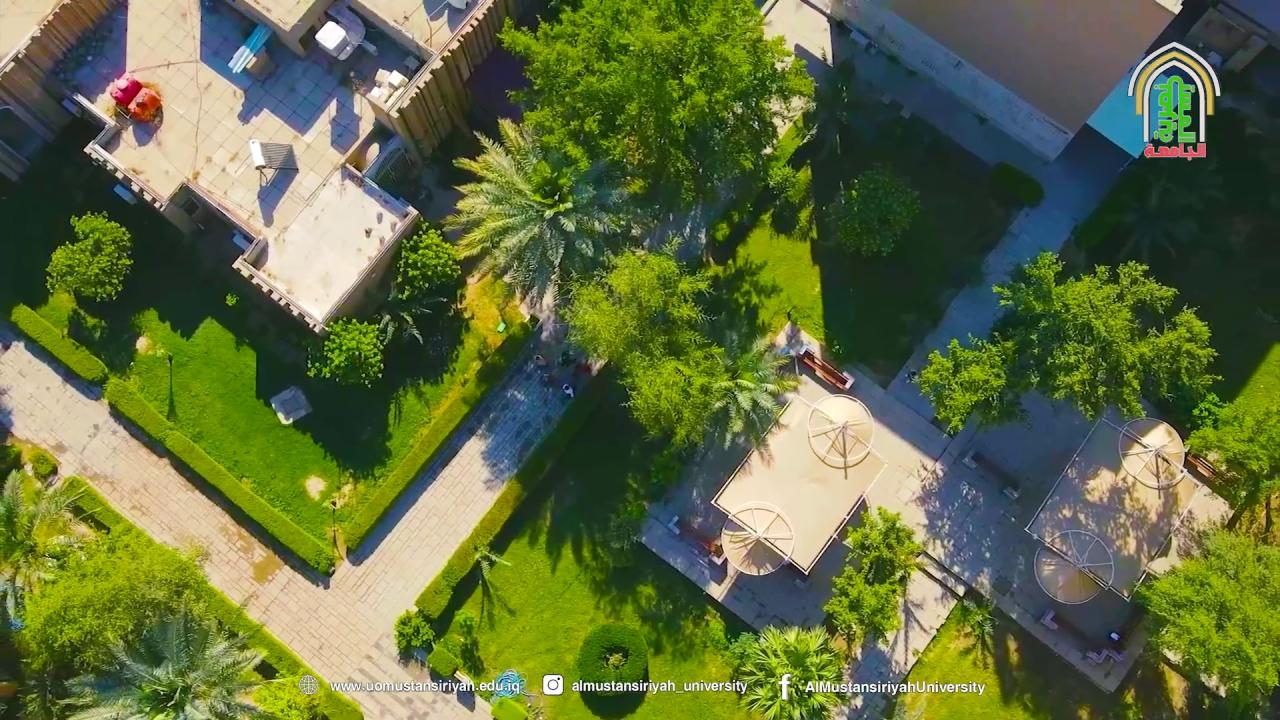tree: (493, 0, 817, 213), (913, 248, 1225, 439), (546, 235, 792, 461), (438, 115, 633, 314), (13, 525, 210, 718), (762, 56, 923, 260), (1130, 522, 1278, 718), (304, 215, 463, 388), (9, 208, 134, 383), (105, 603, 271, 719), (821, 504, 926, 663), (0, 464, 95, 626), (1182, 388, 1278, 539), (912, 328, 1036, 438), (724, 622, 851, 719), (374, 216, 462, 346), (829, 162, 922, 259), (43, 209, 134, 304), (9, 300, 109, 384), (821, 565, 902, 661), (840, 504, 925, 587), (305, 314, 386, 388), (574, 620, 650, 696), (457, 529, 512, 631), (249, 672, 364, 718), (427, 614, 486, 687), (313, 483, 353, 575), (956, 594, 998, 668), (391, 607, 436, 666), (606, 496, 648, 551), (453, 614, 487, 679), (426, 638, 462, 686), (489, 691, 544, 719)
